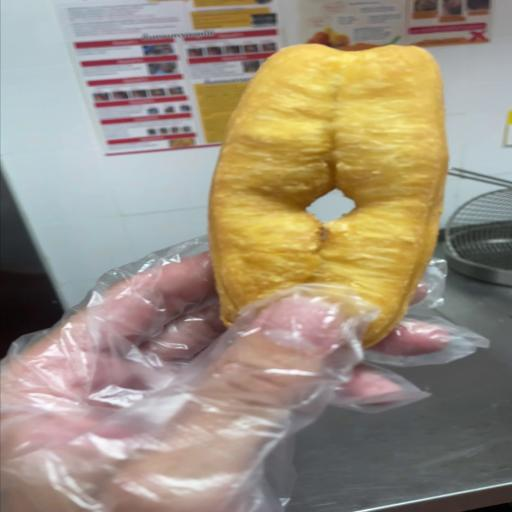brand_golden_defect: (208, 44, 448, 347)
